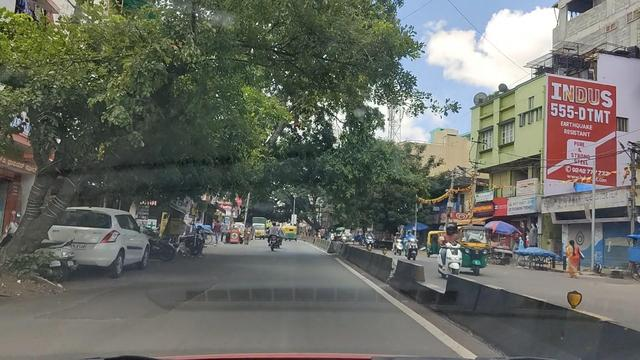RoadDamages: (66, 273, 214, 331)
